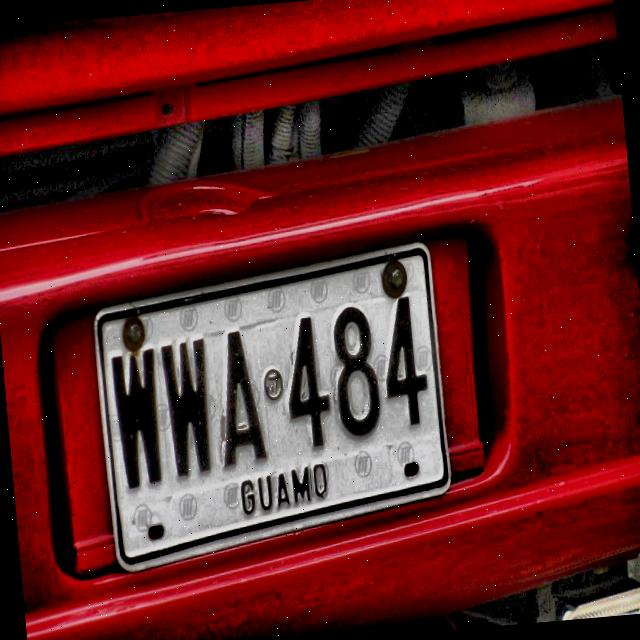4: (279, 311, 335, 450), (377, 291, 430, 436)
8: (328, 294, 391, 450)
A: (213, 326, 275, 475)
W: (108, 342, 170, 490), (160, 333, 217, 484)
